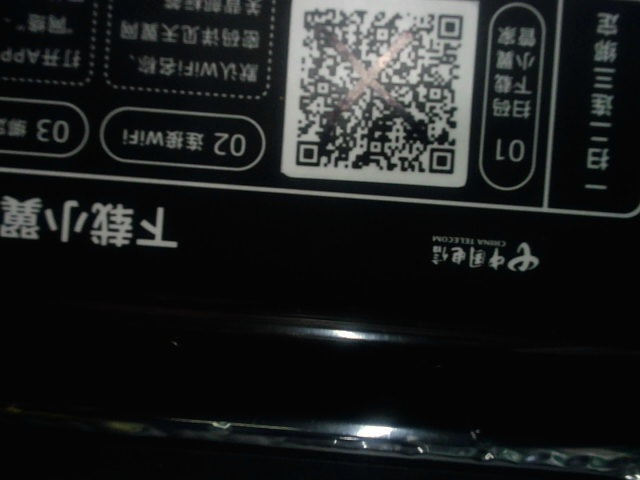AB_ChinaTelecom: (421, 227, 542, 273)
